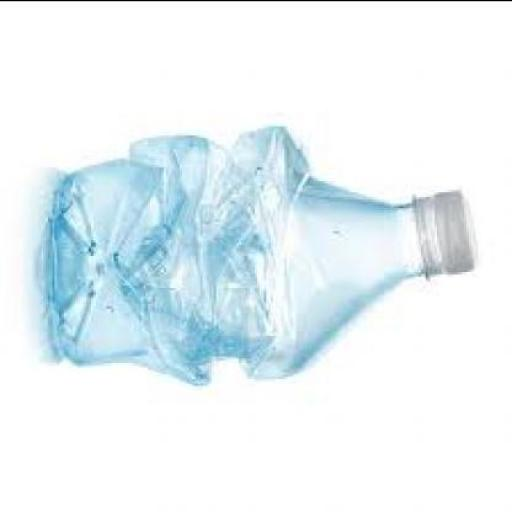plastic: (50, 125, 478, 389), (421, 194, 480, 277)
